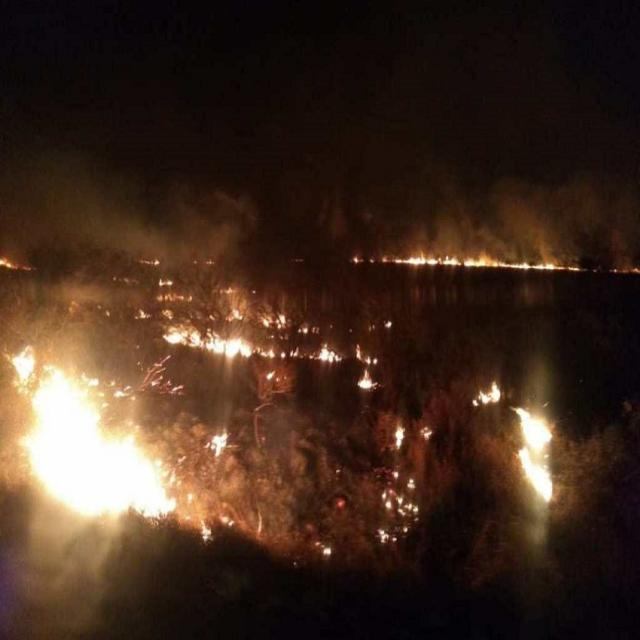Fire: (8, 326, 210, 530), (132, 273, 398, 418), (344, 229, 602, 308), (373, 416, 458, 551), (514, 386, 574, 522), (428, 370, 504, 422), (1, 251, 36, 277)
Smoke: (0, 125, 640, 251)
